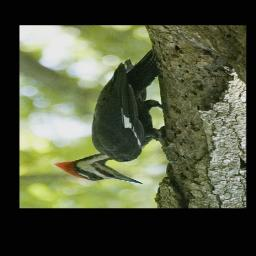Woodpecker: (53, 49, 168, 184)
